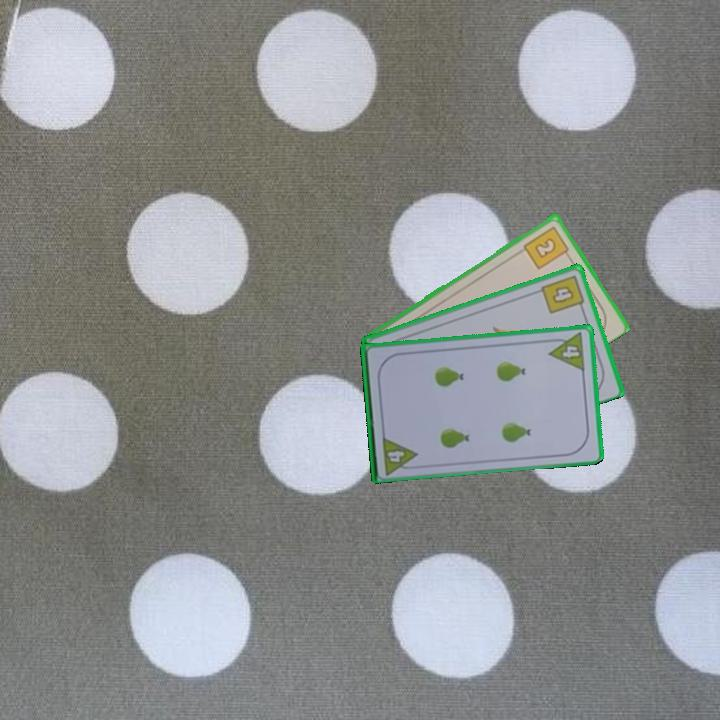2b: (520, 222, 573, 272)
4b: (537, 271, 587, 317)
4p: (545, 329, 588, 374), (379, 432, 420, 477)
